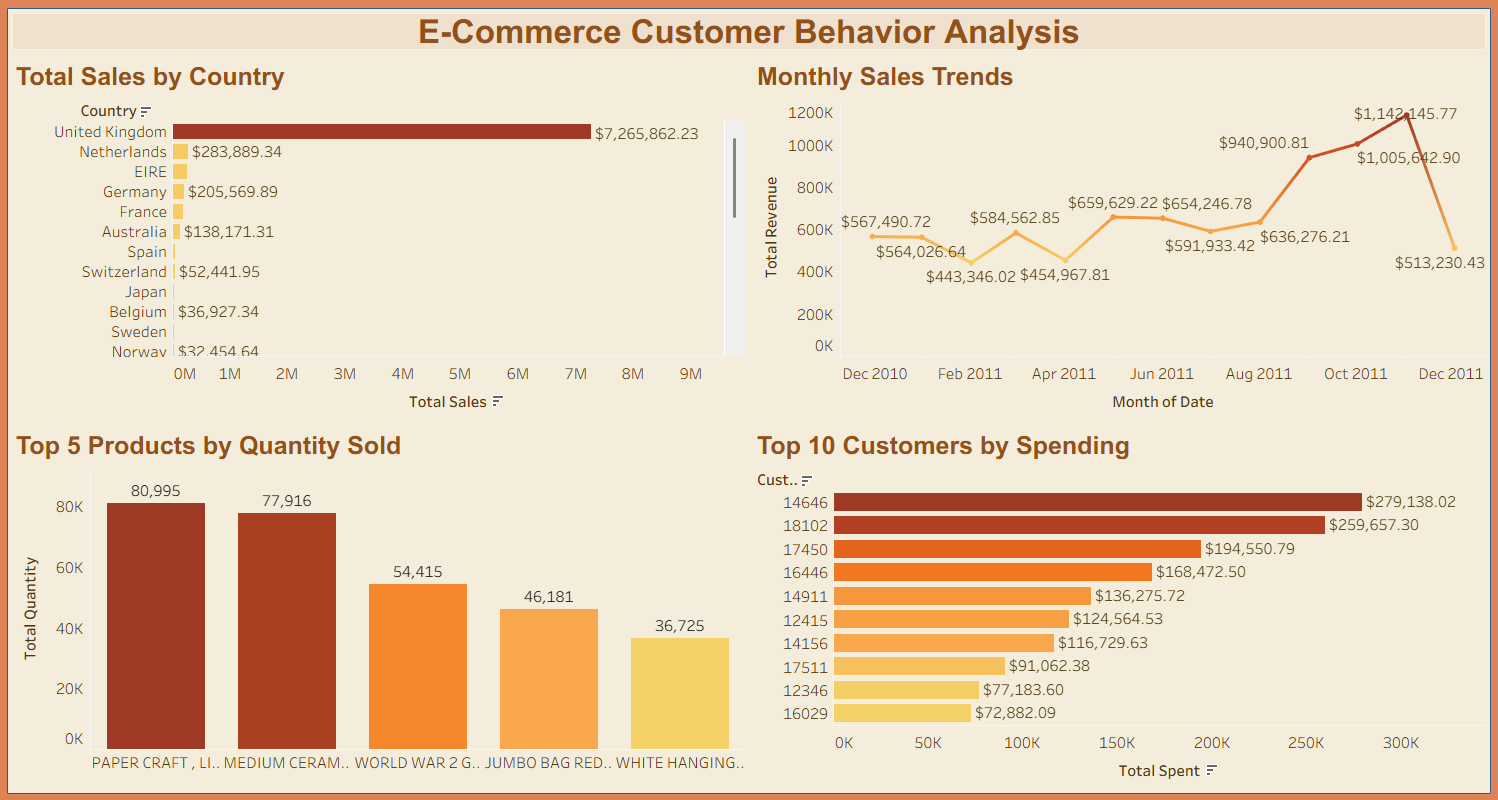

This screenshot's page, from the dashboard's own definition file:
{"tool":"tableau","page":{"name":"E-Commerce Customer Behavior Analysis","canvas":[1000,1000],"units":"permille","ordinal":0},"visuals":[{"type":"title","box":[6,11.2,988,56.1]},{"type":"worksheet","title":"Total Sales by Country","mark":"Bar","rows":["Country"],"cols":["TotalSales"],"box":[6,67.3,494,460.7]},{"type":"worksheet","title":"Monthly Sales Trends","mark":"Line","rows":["TotalRevenue"],"cols":["Calculation_1341791268616183812"],"box":[500,67.3,494,460.7]},{"type":"worksheet","title":"Top 5 Products by Quantity Sold","mark":"Automatic","rows":["TotalQuantity"],"cols":["Description"],"box":[6,528,494,460.7]},{"type":"worksheet","title":"Top Customers by Spending","mark":"Automatic","rows":["CustomerID"],"cols":["TotalSpent"],"box":[500,528,494,460.7]}]}

Visuals, with their boxes on the dashboard's canvas, which has no fixed pixel size, in thousandths of its width and height (x1, y1, x2, y2). These are canvas units, not pixel positions in the 1498x800 screenshot, which may show the page scaled, cropped or inside an application window:
title: box=[6, 11, 994, 67]
"Total Sales by Country" worksheet (Bar marks): box=[6, 67, 500, 528]
"Monthly Sales Trends" worksheet (Line marks): box=[500, 67, 994, 528]
"Top 5 Products by Quantity Sold" worksheet: box=[6, 528, 500, 989]
"Top Customers by Spending" worksheet: box=[500, 528, 994, 989]
